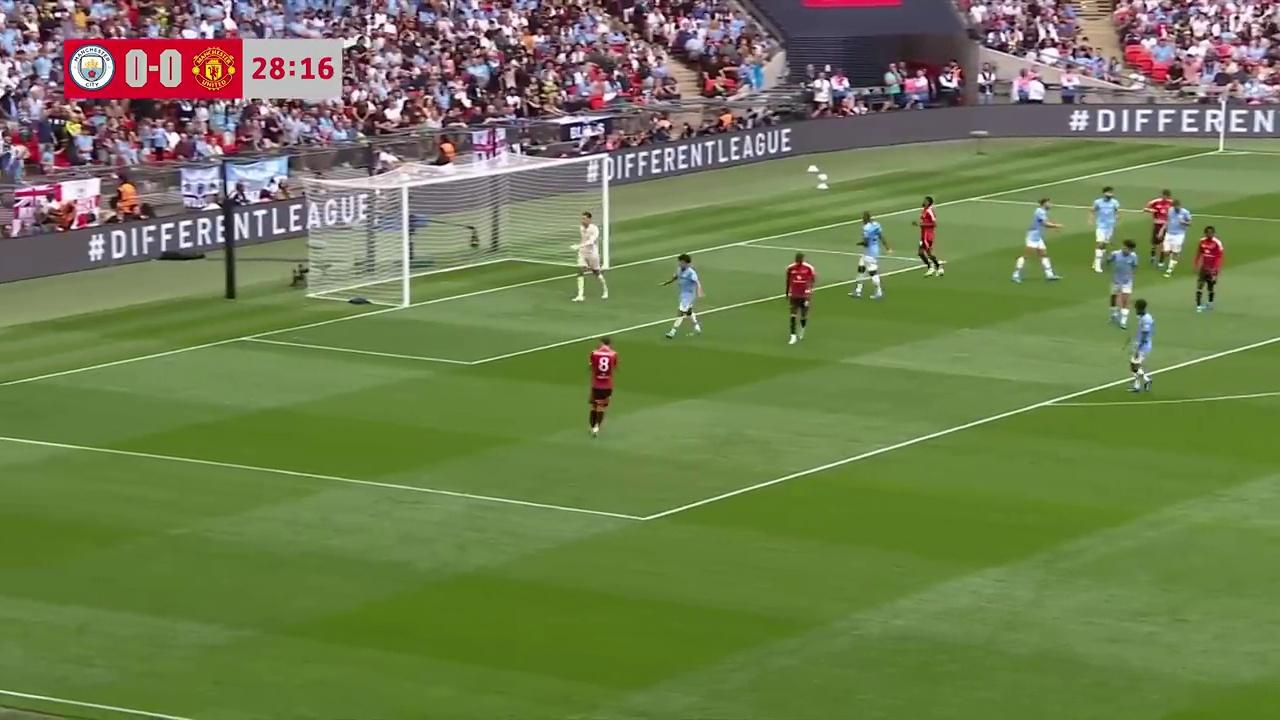player: (1011, 196, 1064, 284), (660, 253, 703, 338), (571, 213, 609, 301), (849, 211, 886, 299), (1124, 299, 1156, 394), (588, 336, 618, 437), (1107, 237, 1140, 328), (785, 251, 816, 346), (1192, 225, 1224, 312), (1088, 186, 1120, 272), (912, 197, 945, 277), (1161, 199, 1190, 278), (1143, 188, 1168, 273)
